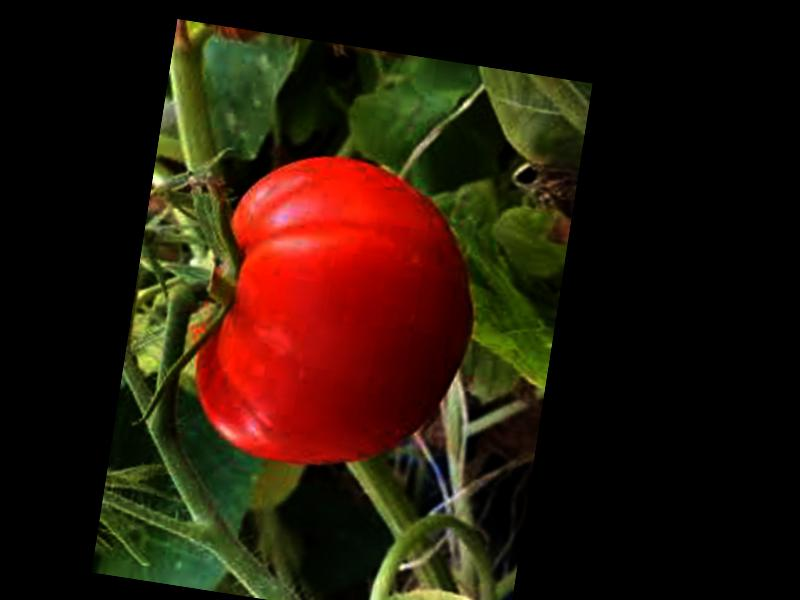Tomato: (184, 139, 491, 489)
